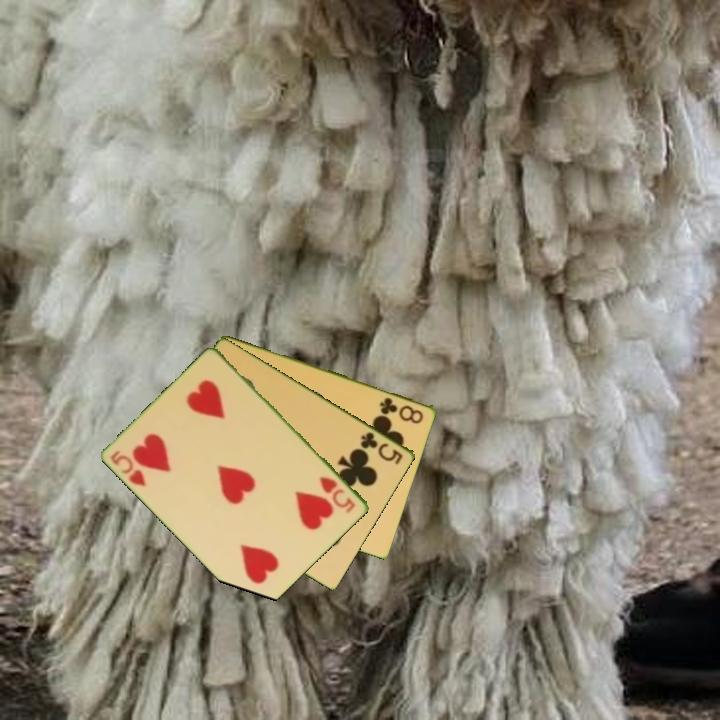5c: (357, 428, 406, 468)
5h: (107, 446, 149, 490), (316, 473, 358, 516)
8c: (376, 394, 427, 427)
